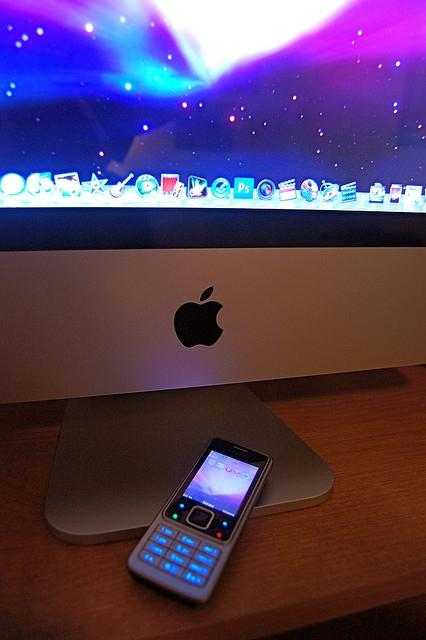apple: (174, 286, 224, 348)
